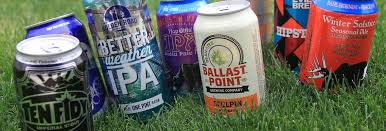can: (81, 1, 174, 124), (194, 1, 265, 121), (12, 34, 94, 131), (300, 1, 378, 97)
